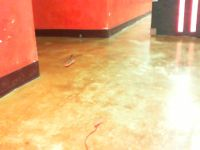switch: (190, 1, 198, 32), (178, 1, 185, 33)
